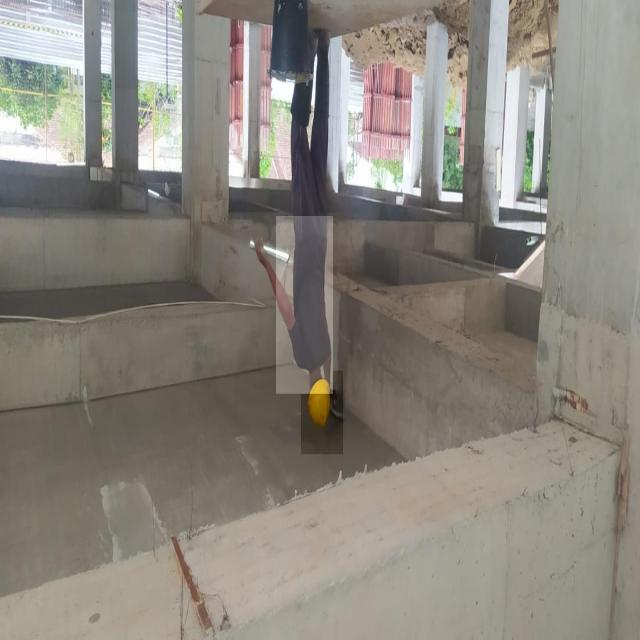Helmet: (276, 216, 333, 394), (301, 371, 343, 454)
